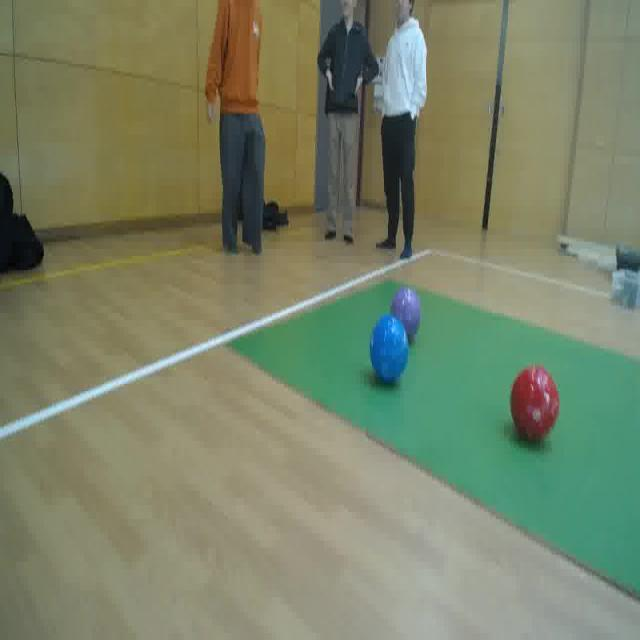blue_ball: (369, 317, 409, 387)
purple_ball: (388, 289, 424, 341)
red_ball: (509, 360, 559, 450)
